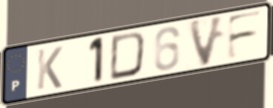1: (87, 34, 107, 85)
6: (152, 25, 182, 73)
D: (108, 29, 149, 82)
F: (225, 8, 266, 63)
K: (35, 45, 64, 92)
V: (186, 13, 228, 70)
